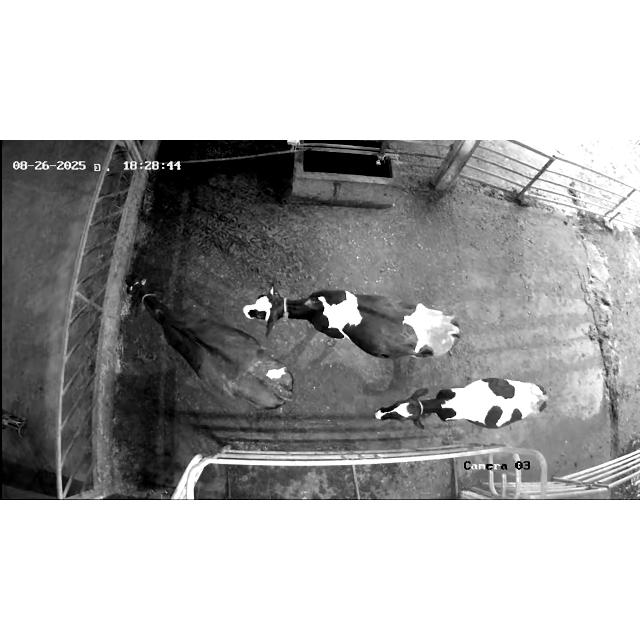stand: (119, 270, 299, 418), (232, 276, 468, 358), (357, 368, 553, 434)
